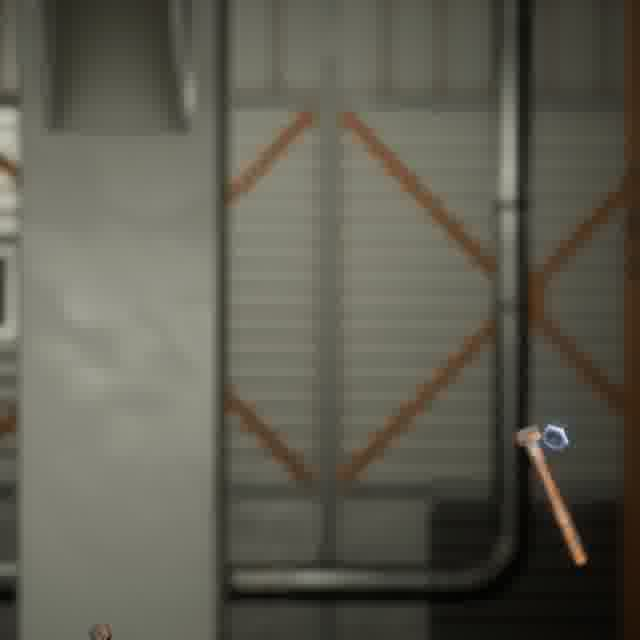bolt: (510, 420, 591, 569)
nut: (536, 415, 577, 457)
